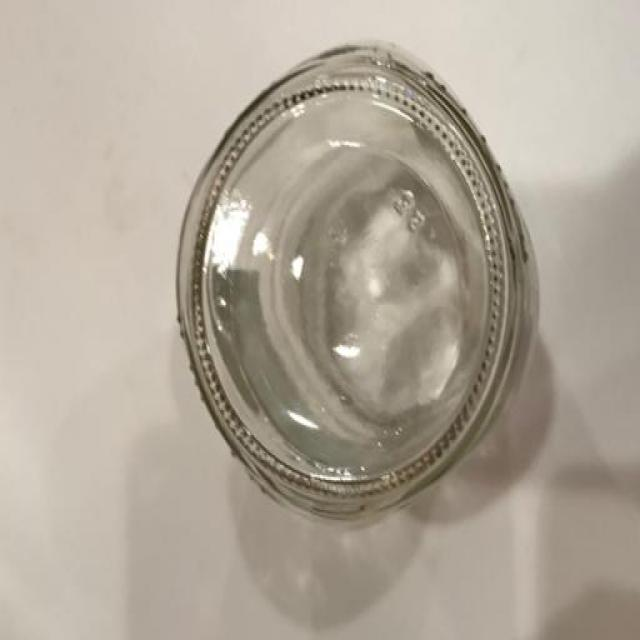glass: (161, 33, 567, 538)
